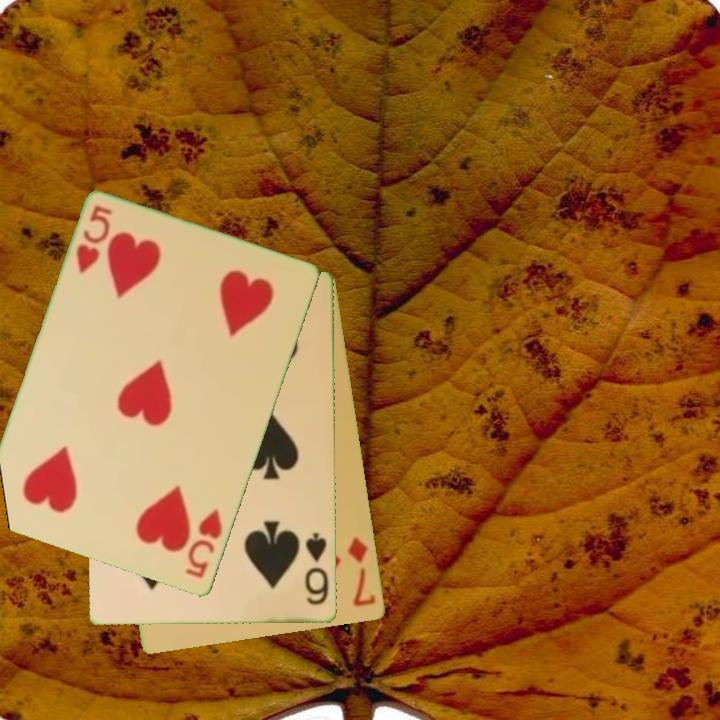5h: (182, 506, 225, 582), (73, 202, 115, 277)
6s: (302, 530, 331, 608)
7d: (344, 533, 379, 610)
